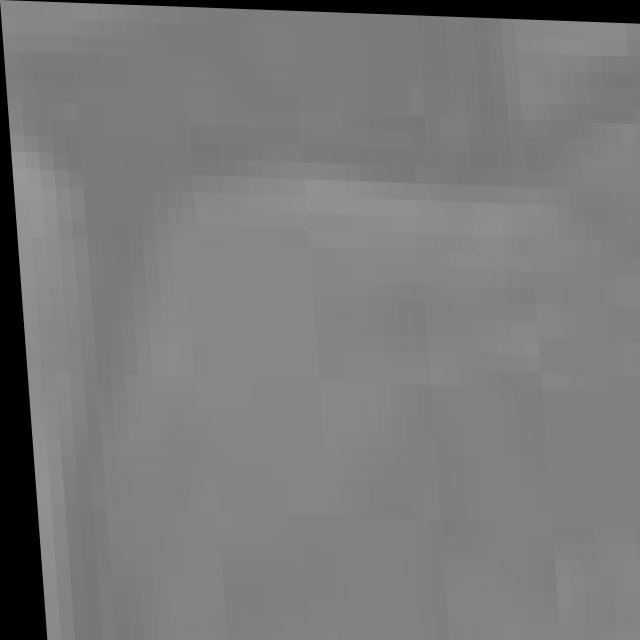fracture: (23, 18, 640, 640)
